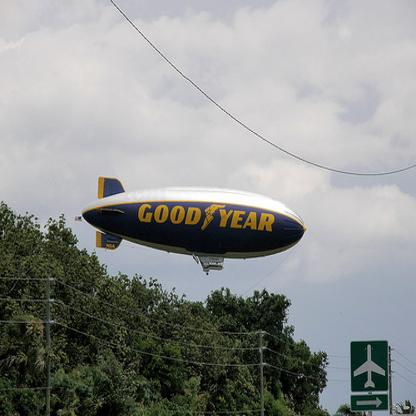Airship: (82, 173, 312, 278)
